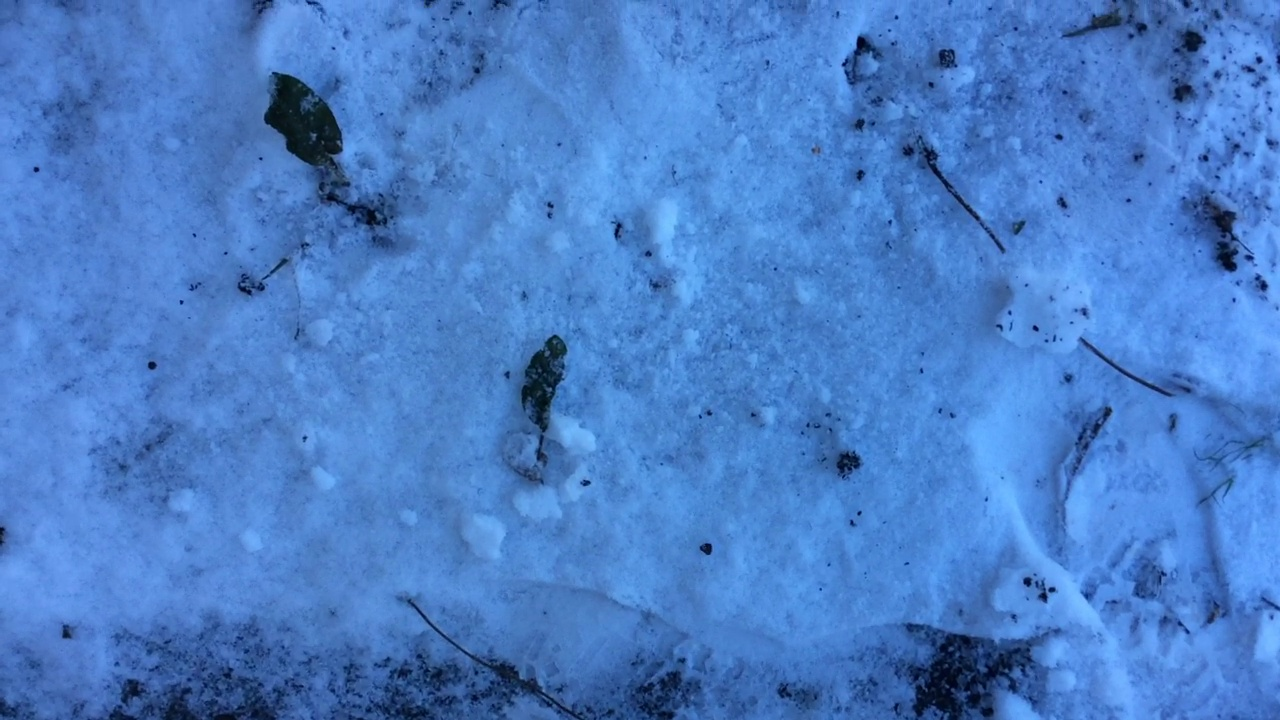root: (522, 438, 559, 480), (321, 180, 356, 214)
rumex: (256, 66, 384, 231), (515, 332, 579, 492)
